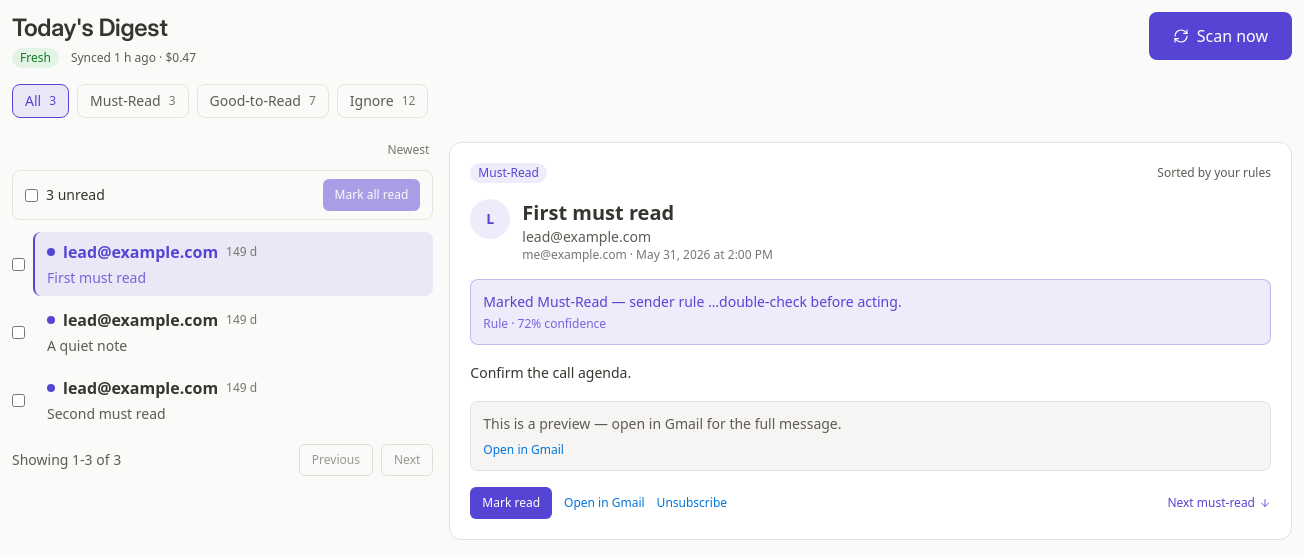
Test case: <DashboardPage> › advances the selection to the next must-read row
Expected: the heading "First must read" is shown, left=522, top=199, right=674, bottom=226
Click the button "Next must-read": [1219, 503] box left=1167, top=495, right=1271, bottom=511
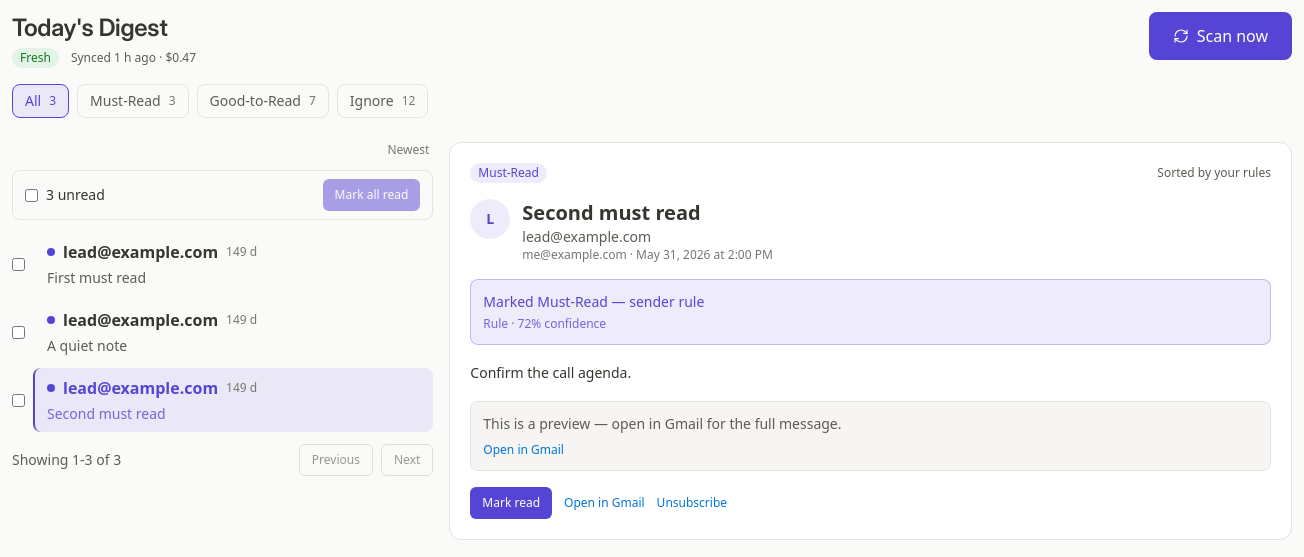
Now the heading "Second must read" is shown, box left=522, top=199, right=701, bottom=226
